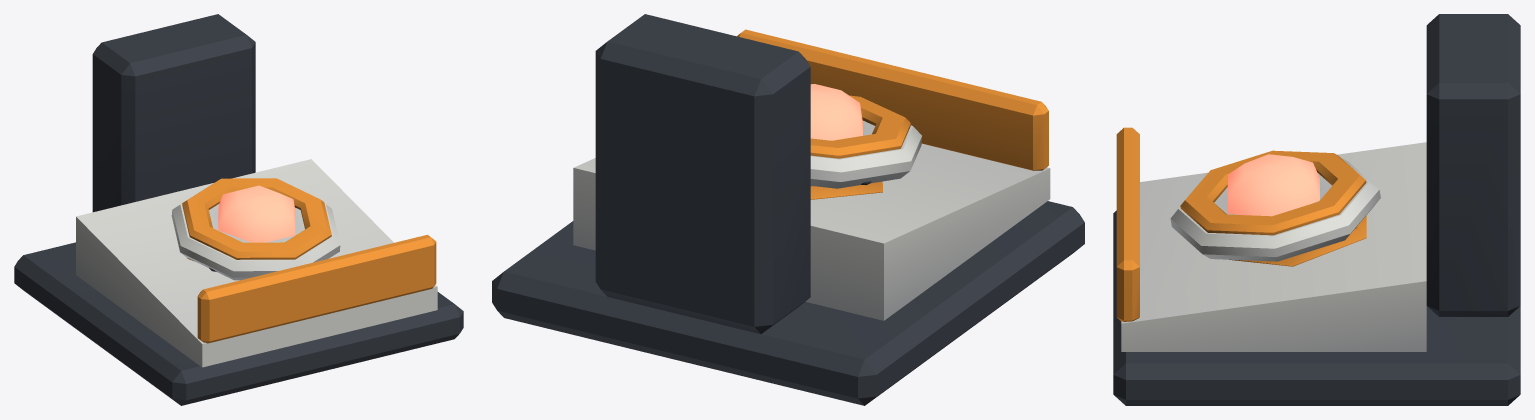
The model's file is R4X_ExplosiveTrapDeployer_LOD1.glb.
3 views of the same model, side by side, from view 1: azimuth 30°, elevation 25°; view 2: azimuth 150°, elevation 25°; view 3: azimuth 270°, elevation 25° (orthographic). The views are drawn at different scales.
Parts seen in each view (by area): view 1: R4X_ExplosiveTrapDeployer_LOD1; view 2: R4X_ExplosiveTrapDeployer_LOD1; view 3: R4X_ExplosiveTrapDeployer_LOD1.
Boxes of the visible parts, box(x1,y1,x2,y2) form: R4X_ExplosiveTrapDeployer_LOD1: box(14, 14, 463, 405); R4X_ExplosiveTrapDeployer_LOD1: box(492, 14, 1084, 405); R4X_ExplosiveTrapDeployer_LOD1: box(1113, 14, 1520, 405).
Size of the model in its own units: 0.52 by 0.39 by 0.52.
